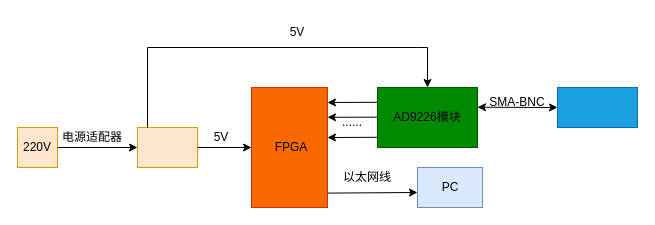
This 655x225 diagram has some shape labels left out. The centre of each missing label's shape, as x and y in pixels:
"LDO模块" belongs at point (167, 147).
"信号发生器" belongs at point (597, 107).
